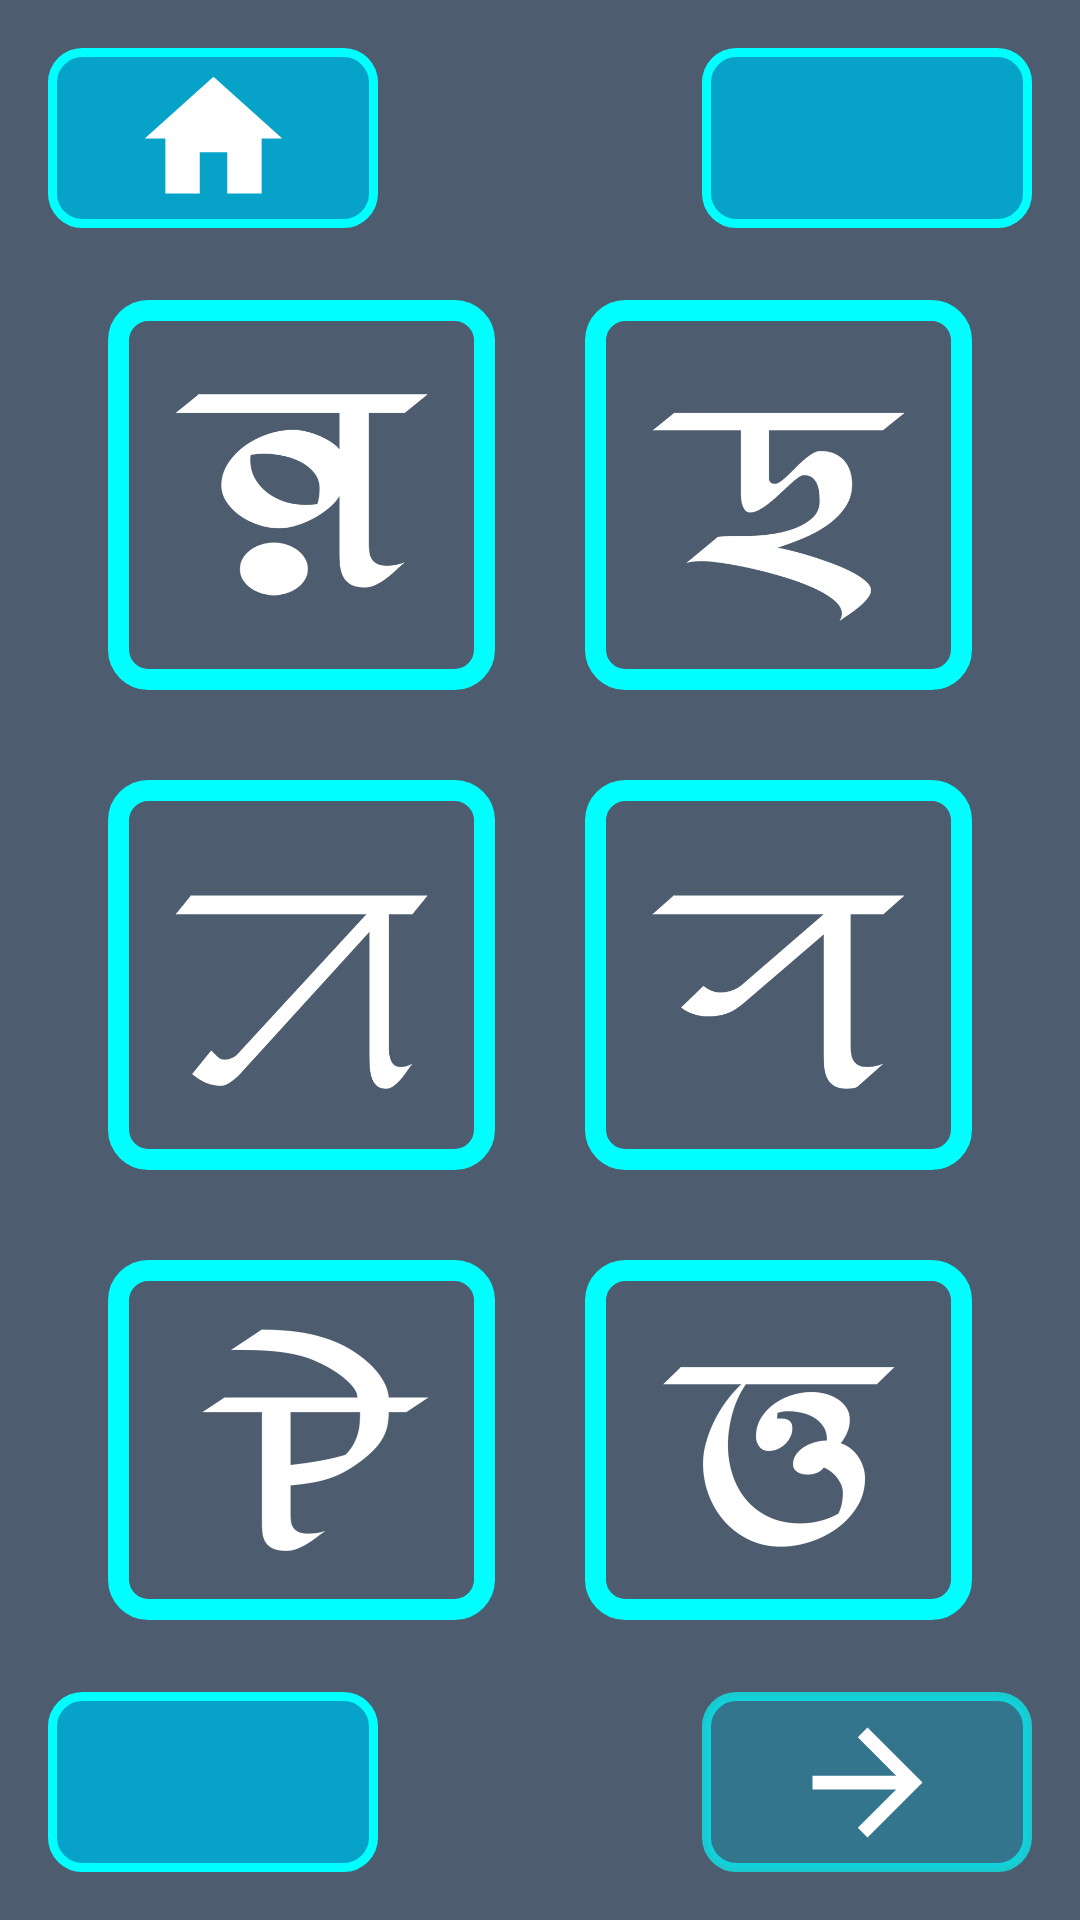

Point at icon controls on the screen. Image size 1080×1920, points as (x=x, y=y).
arrow forward: (x=867, y=1782)
home: (x=213, y=138)
